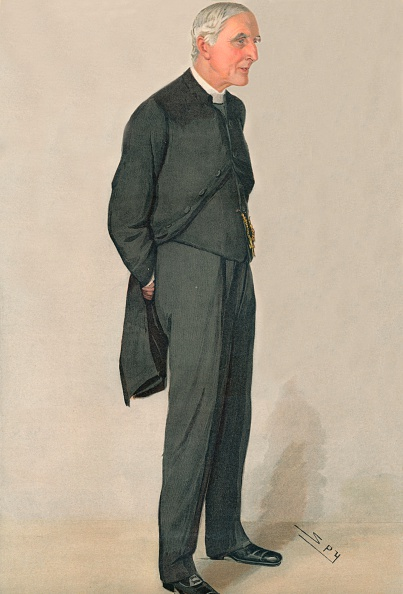em pe: (104, 0, 302, 594)
